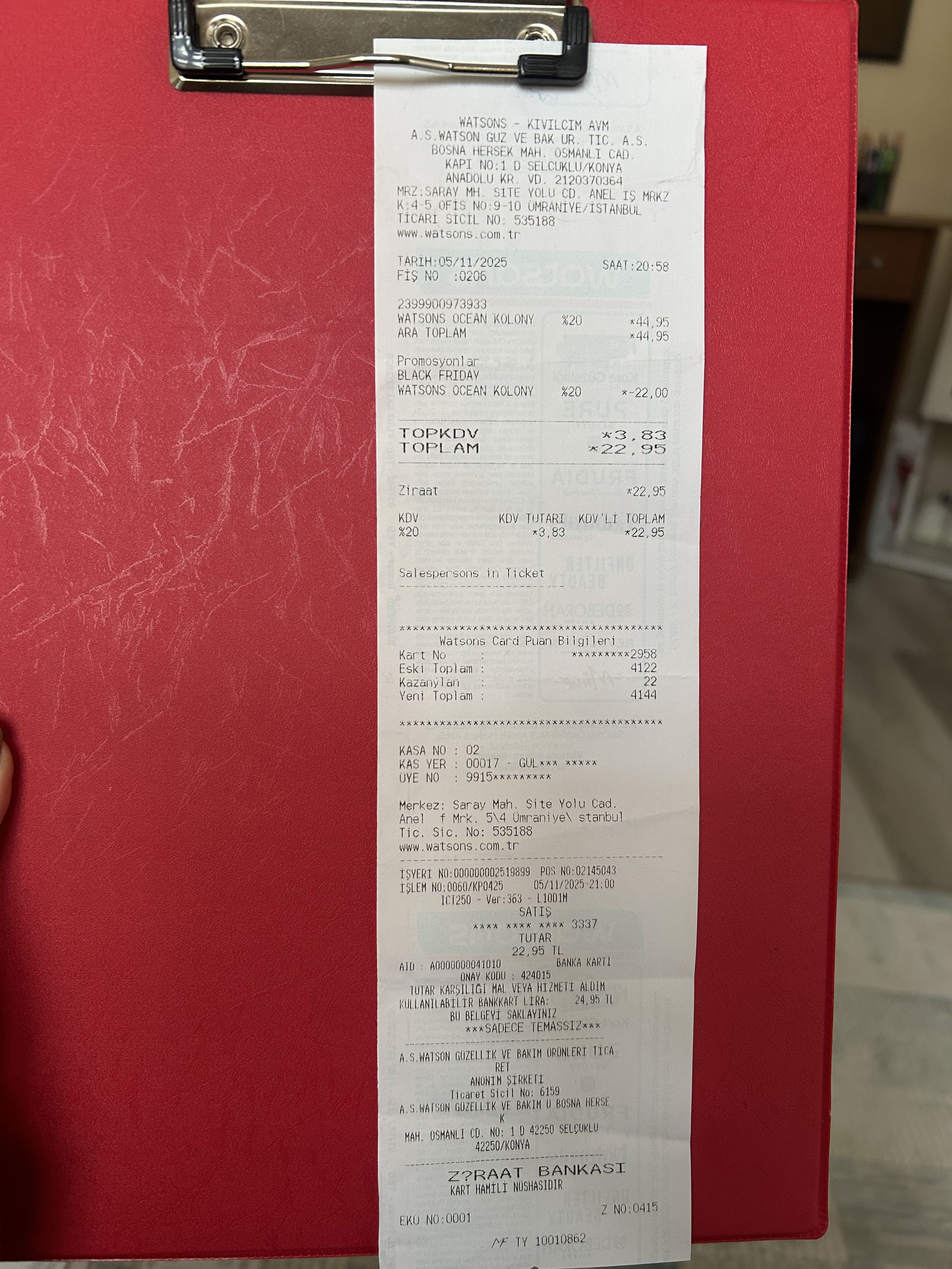date: (438, 254, 510, 269)
price: (599, 440, 668, 461)
workplace: (405, 114, 655, 172)
